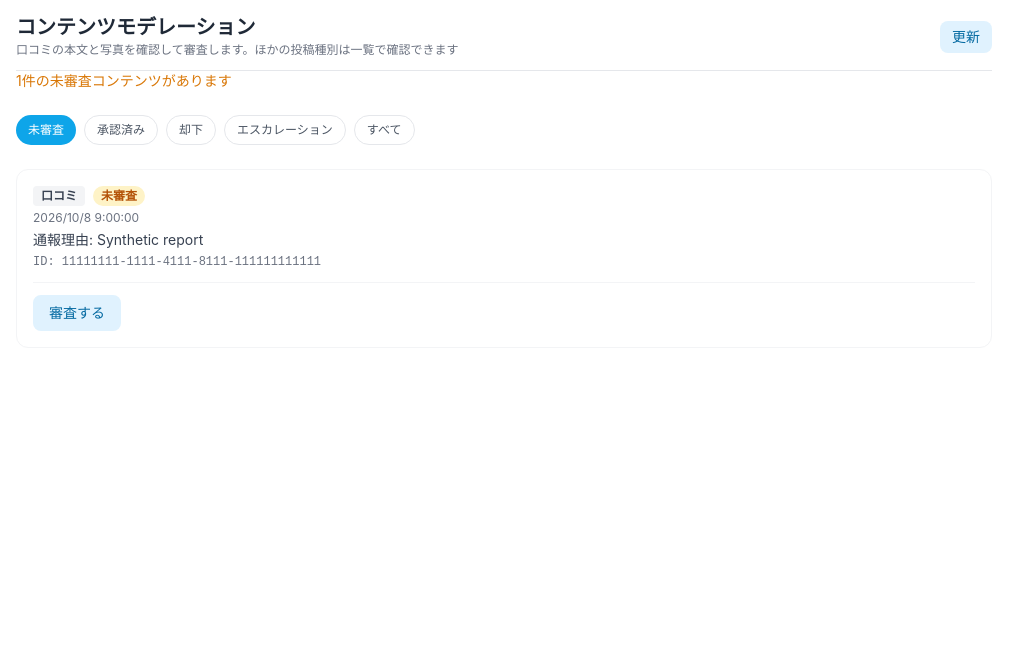
Scenario: unsafe legacy photo prevents approval instead of displaying untrusted media
Click the button "審査する" at (77, 313), box [33, 295, 121, 331]
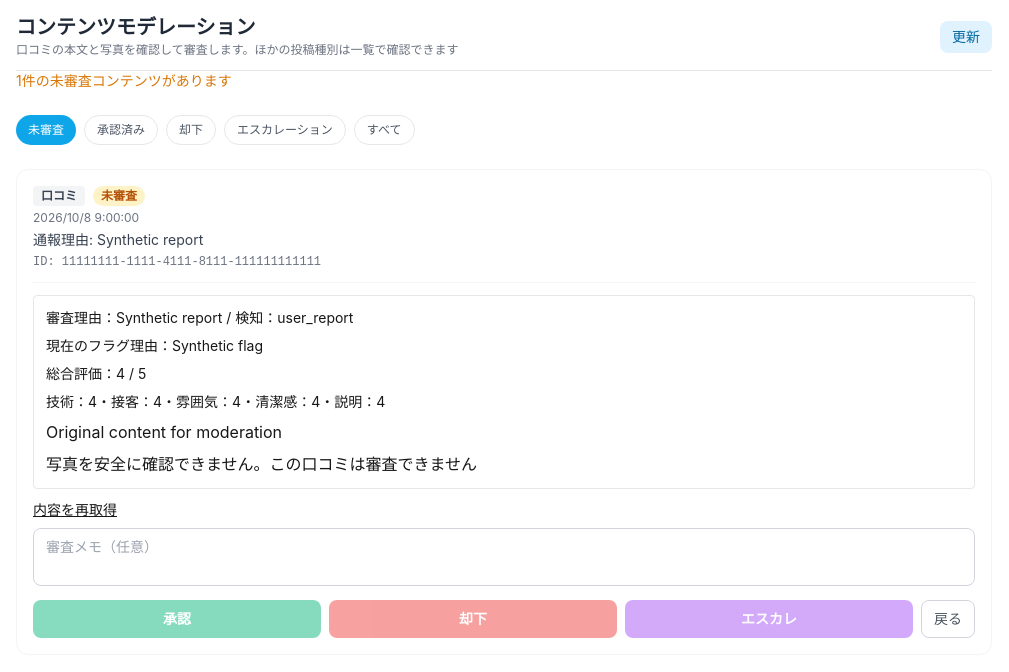
Check: the text "写真を安全に確認できません。この口コミは審査できません" is shown, box [46, 452, 477, 476]
Check: the button "承認" is disabled, box [33, 600, 321, 638]
